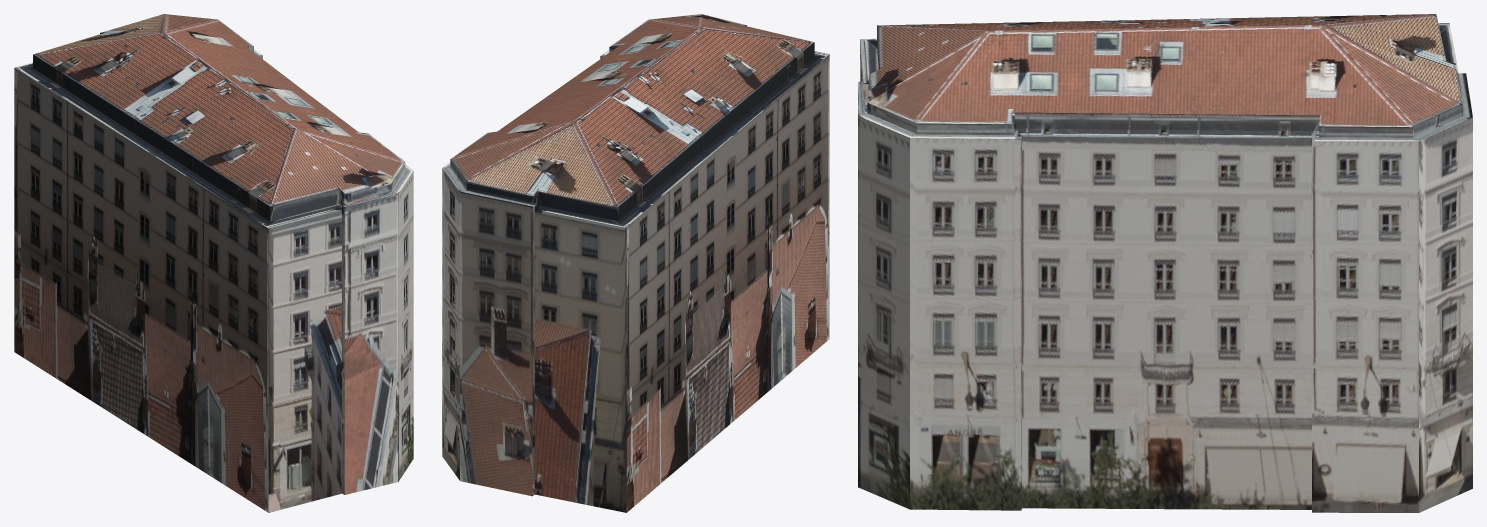
The picture shows the model from 3 angles, left to right: view 1: azimuth 30°, elevation 25°; view 2: azimuth 150°, elevation 25°; view 3: azimuth 270°, elevation 25°; orthographic projection. The views are drawn at different scales.
Visible parts, largest first — view 1: Z_UP; view 2: Z_UP; view 3: Z_UP.
Part boxes in pixels (left/top/right/bottom): Z_UP: left=14, top=14, right=413, bottom=512; Z_UP: left=442, top=14, right=829, bottom=512; Z_UP: left=858, top=14, right=1472, bottom=512.
Bounding box in the file's own units: 16.82 × 27.2 × 35.46.
Materials: 2 (1 with a texture image).
